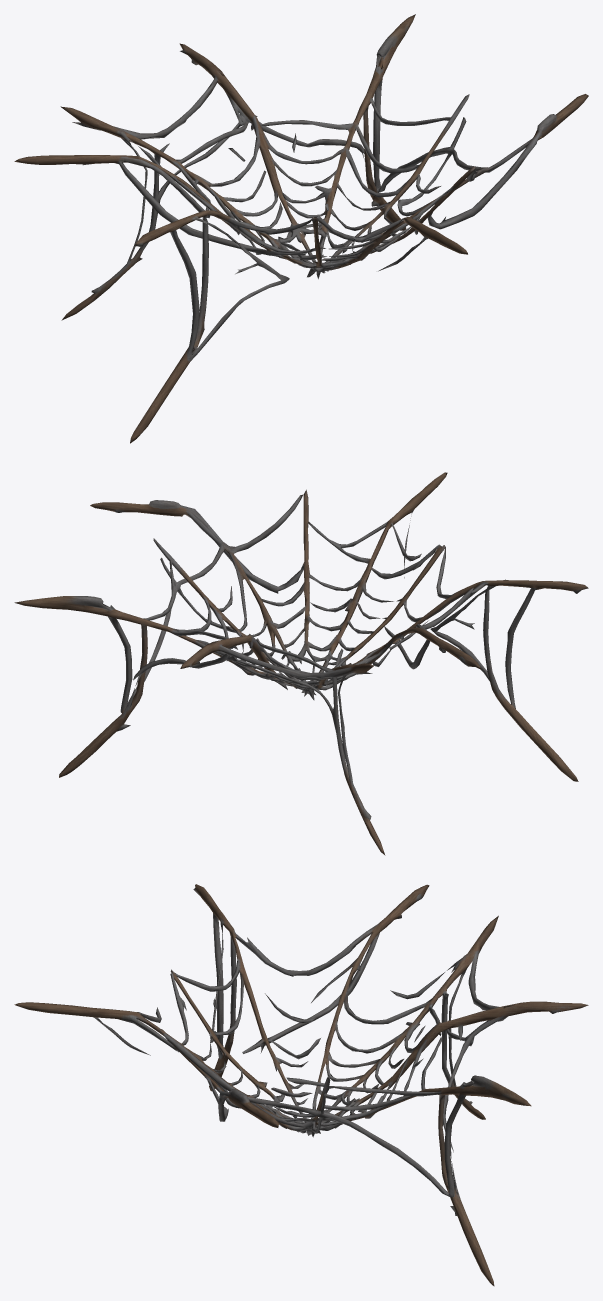
Rendered from crypt_Cobweb.glb.
3 views of the same model, one above another, from view 1: azimuth 30°, elevation 25°; view 2: azimuth 150°, elevation 25°; view 3: azimuth 270°, elevation 25° (orthographic). The views are drawn at different scales.
Parts seen in each view (by area): view 1: world; view 2: world; view 3: world.
Part boxes in pixels (box(x1,y1,x2,y2)): world: box(14, 14, 588, 443); world: box(14, 472, 588, 855); world: box(14, 884, 588, 1286).
Bounding box in the file's own units: 0.9866 × 0.4131 × 0.9893.
1 material, 1 textured.
